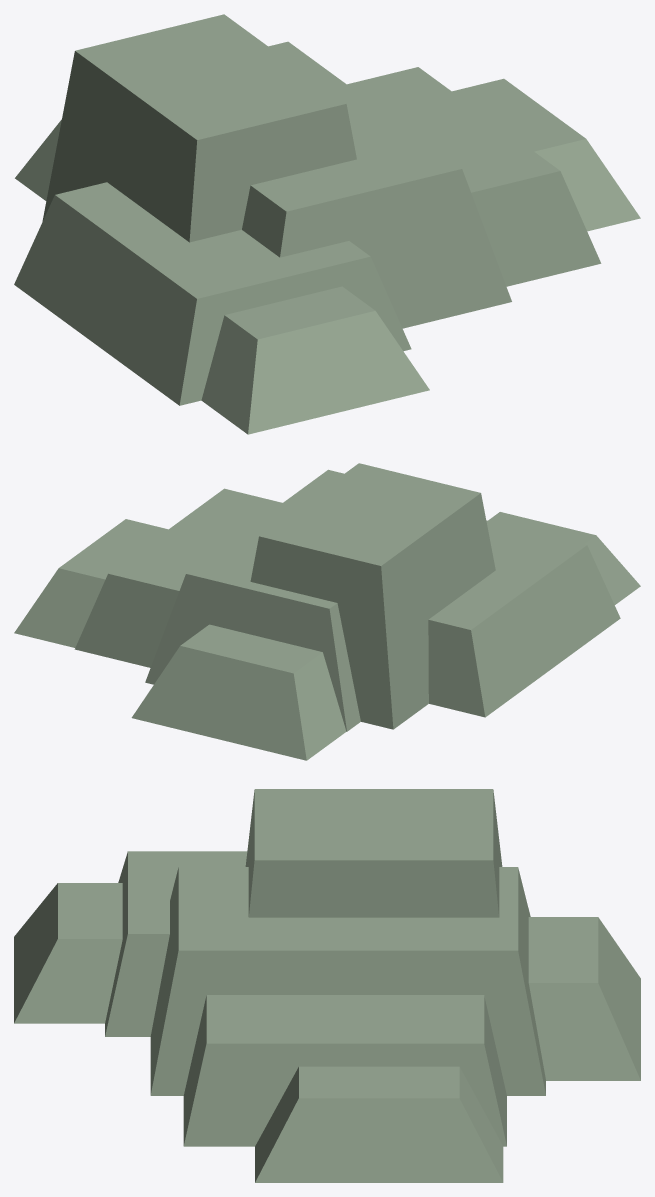
File: rock_brown_02.fbx
3 views of the same model, one above another, from view 1: azimuth 30°, elevation 25°; view 2: azimuth 150°, elevation 25°; view 3: azimuth 270°, elevation 25° (orthographic). The views are drawn at different scales.
Parts seen in each view (by area): view 1: rock_brown_02; view 2: rock_brown_02; view 3: rock_brown_02.
Part boxes in pixels (x1,y1,x2,y2): rock_brown_02: (14,14,640,434); rock_brown_02: (14,463,640,760); rock_brown_02: (14,789,640,1182).
Size of the model in its own units: 3.37 by 1.12 by 3.48.
